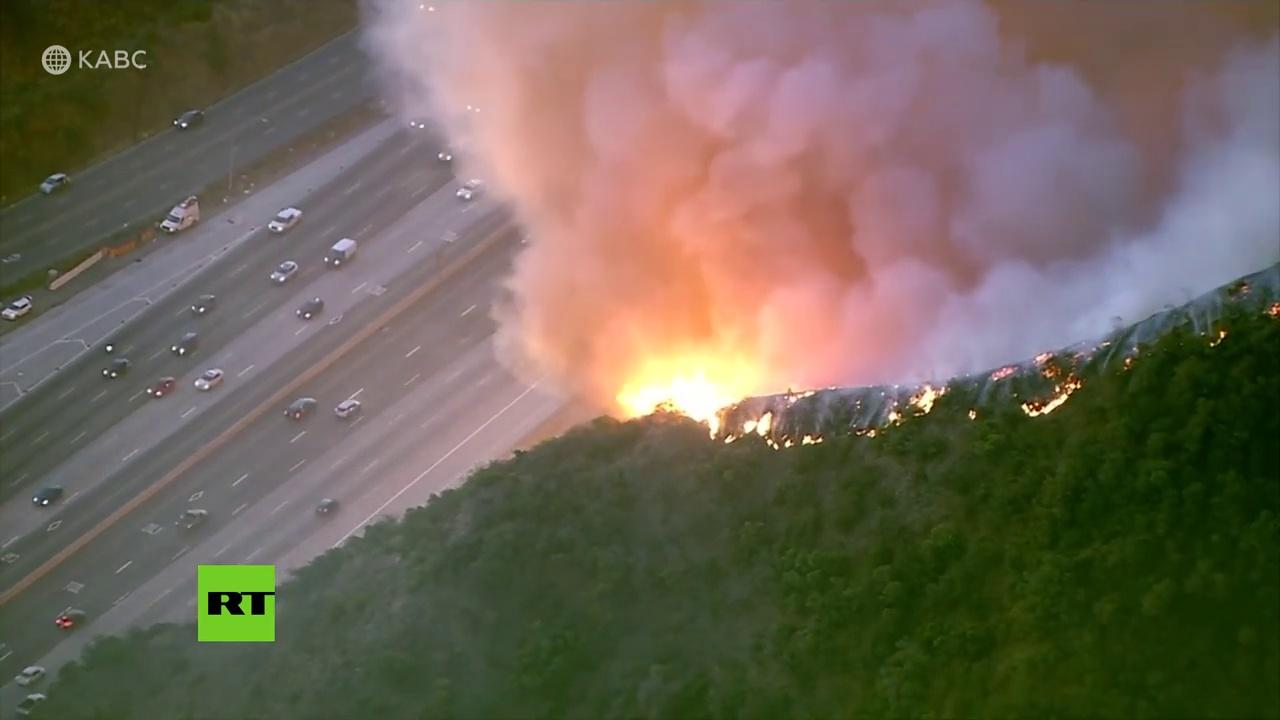Fire: (620, 360, 732, 441), (742, 414, 820, 450), (884, 387, 933, 423), (1025, 385, 1071, 417)
